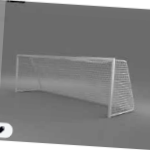goals: (14, 51, 138, 119)
